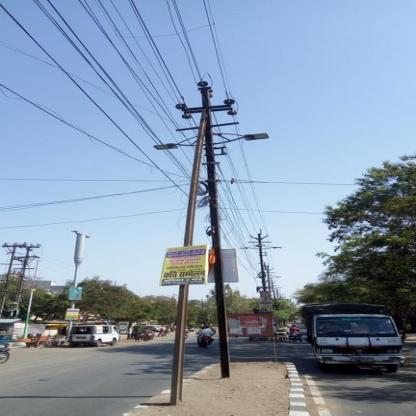Electrical Pole: (156, 75, 283, 377)
